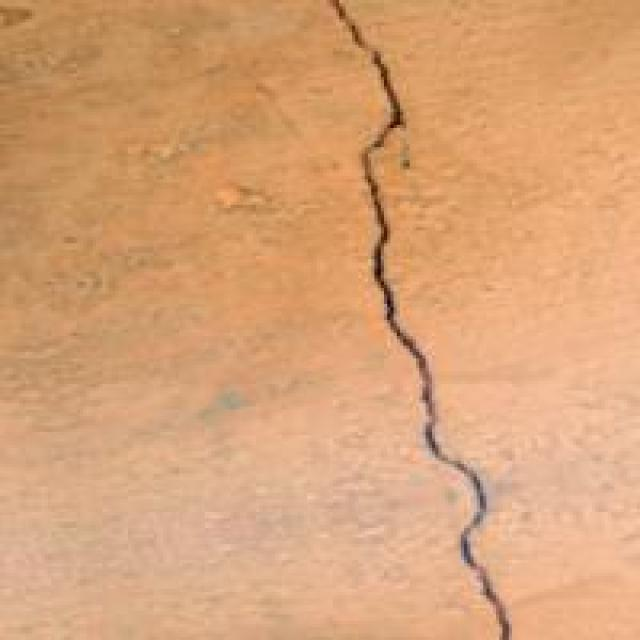Crack: (275, 0, 557, 637)
